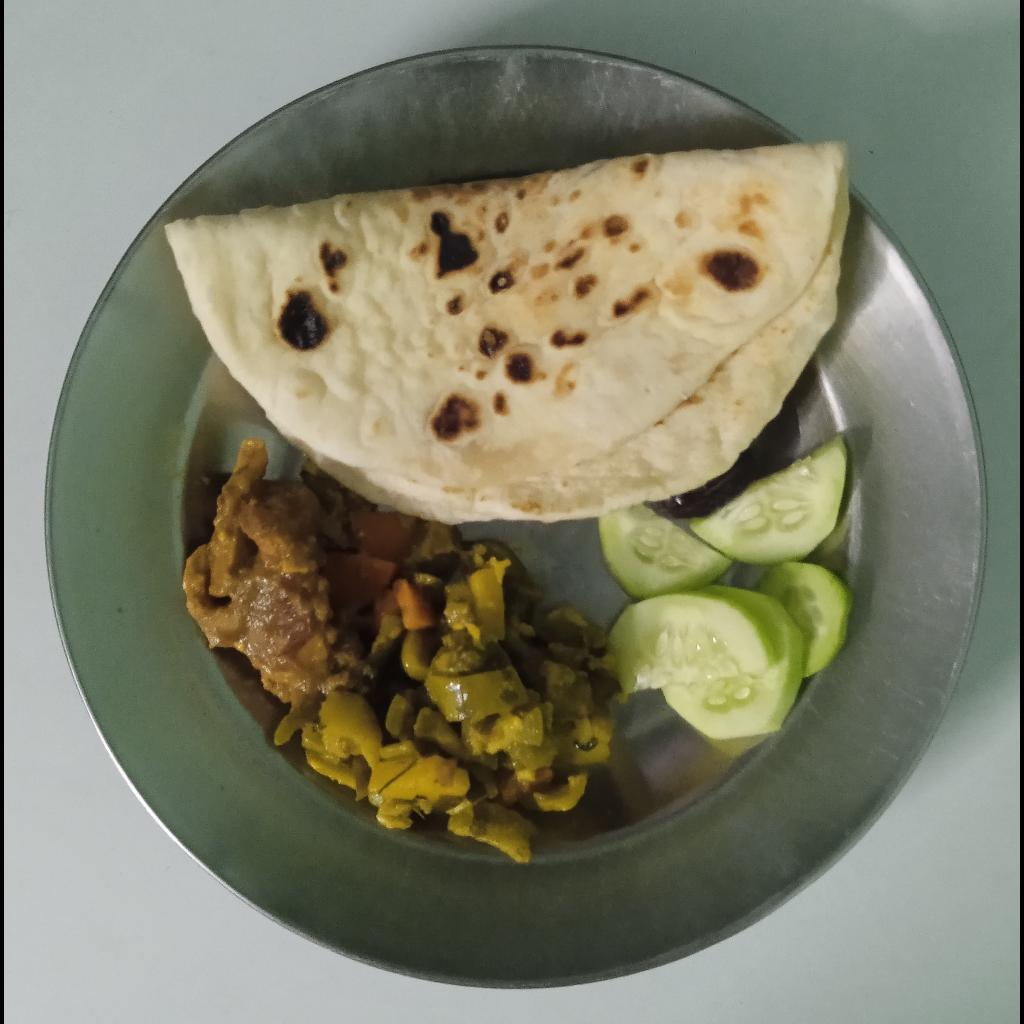beef: (182, 441, 357, 708)
cucumber: (598, 433, 854, 739)
ruti: (165, 140, 851, 524)
vegetable: (273, 508, 626, 865)
